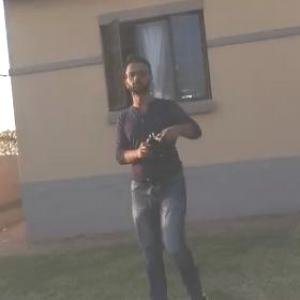follow: (112, 44, 214, 299)
